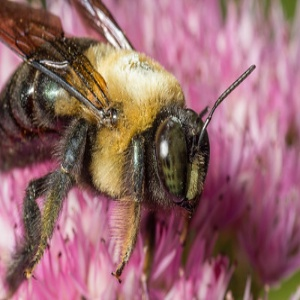bee: (2, 1, 257, 291)
